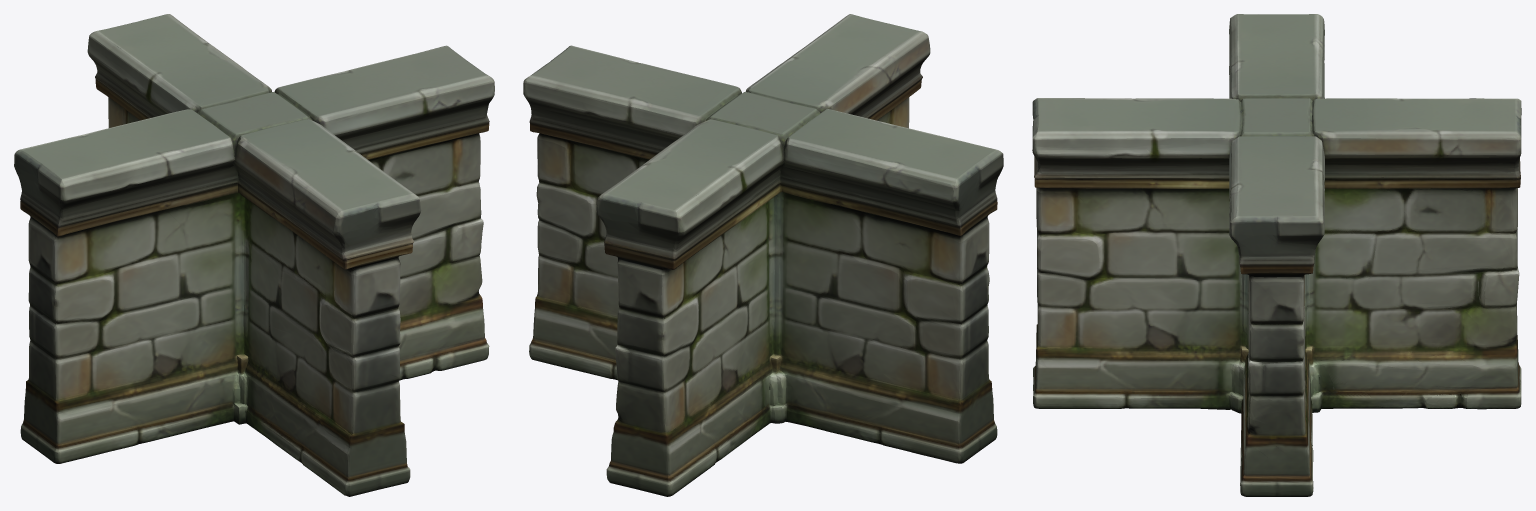
Rendered from wall_segment.glb.
3 views of the same model, side by side, from view 1: azimuth 30°, elevation 25°; view 2: azimuth 150°, elevation 25°; view 3: azimuth 270°, elevation 25° (orthographic). The views are drawn at different scales.
Parts seen in each view (by area): view 1: world; view 2: world; view 3: world.
Boxes of the visible parts, x1,y1,x2,y2 form: world: (14,14,494,496); world: (523,14,1003,496); world: (1032,14,1521,496).
Size of the model in its own units: 1 by 0.6332 by 1.
Materials: 1 (1 with a texture image).
